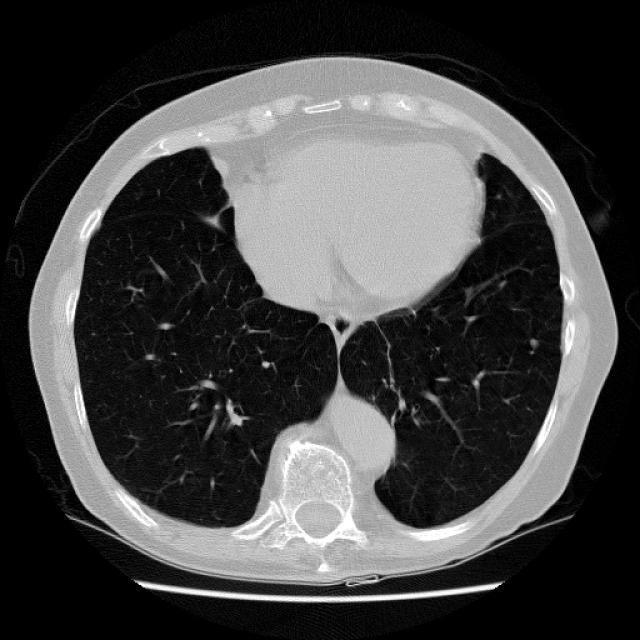nodule: (520, 330, 545, 355)
